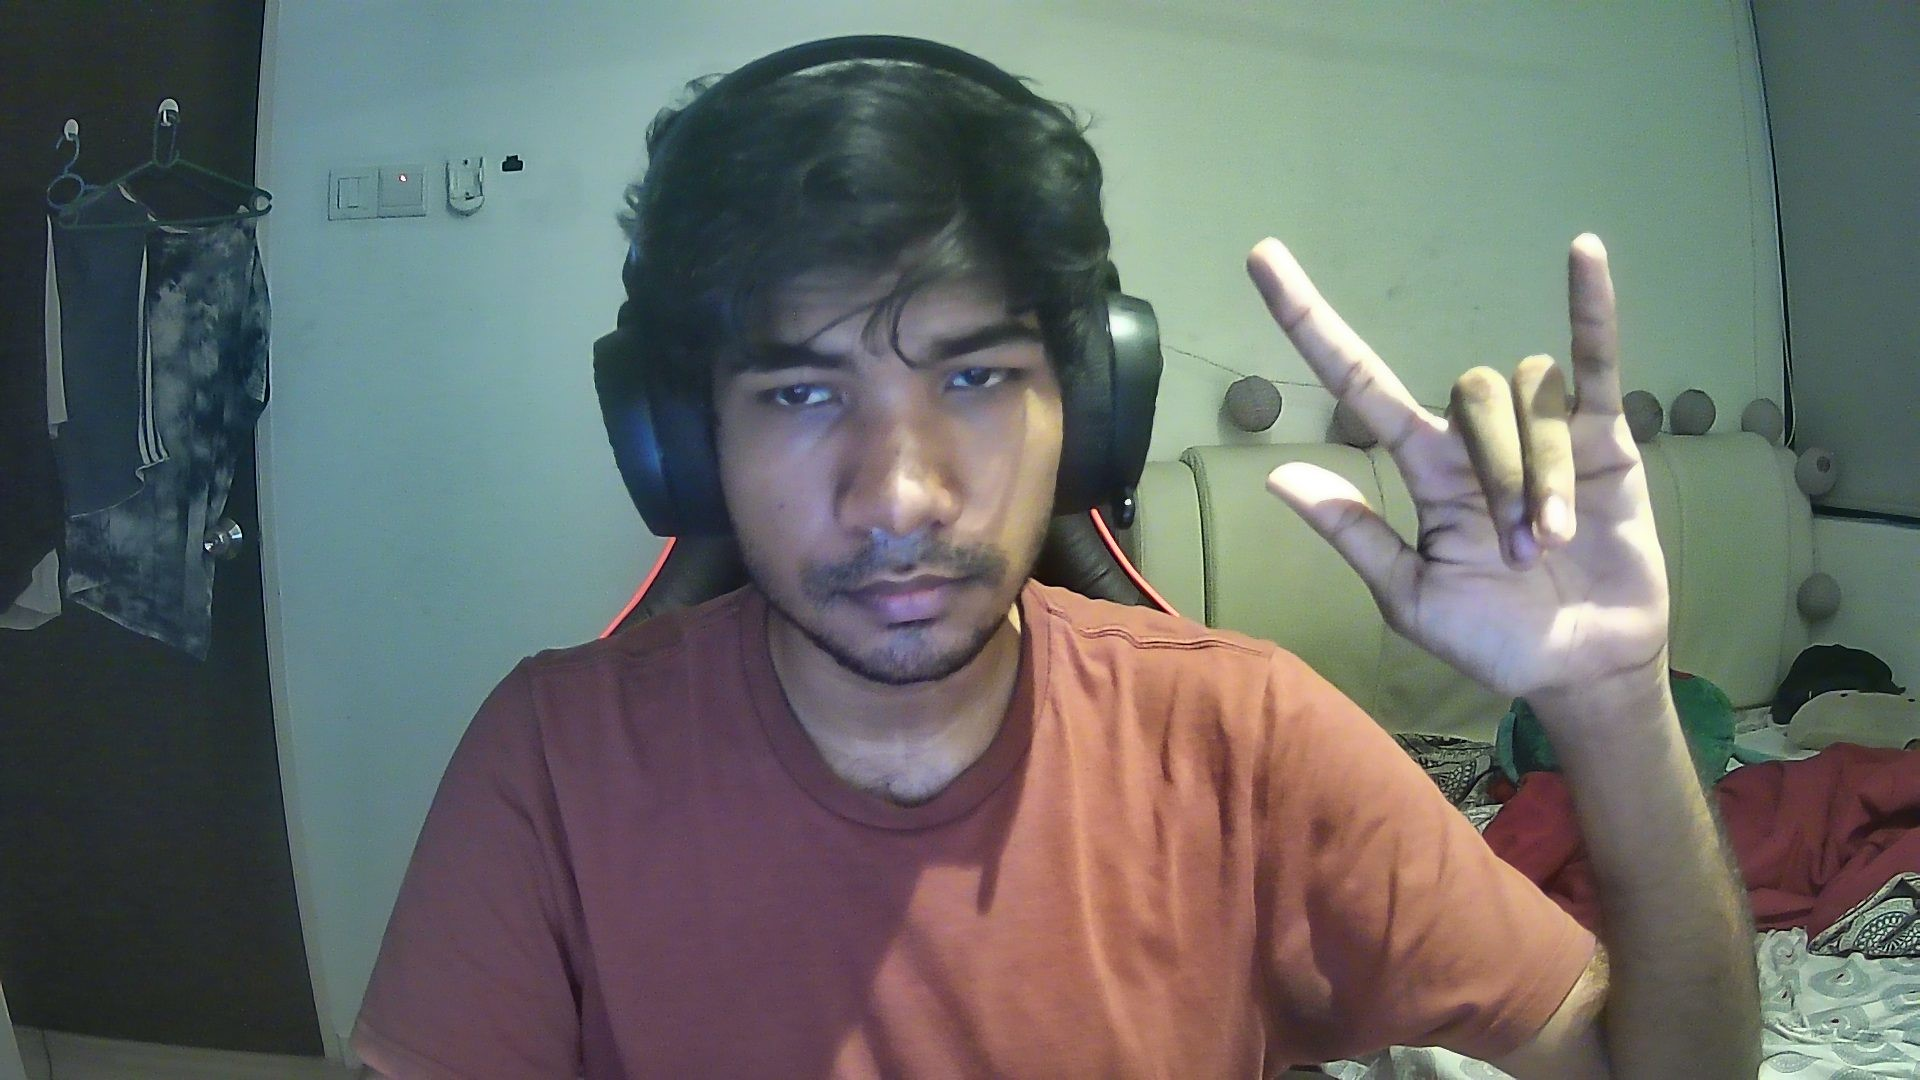I Love You: (1237, 225, 1695, 684)
